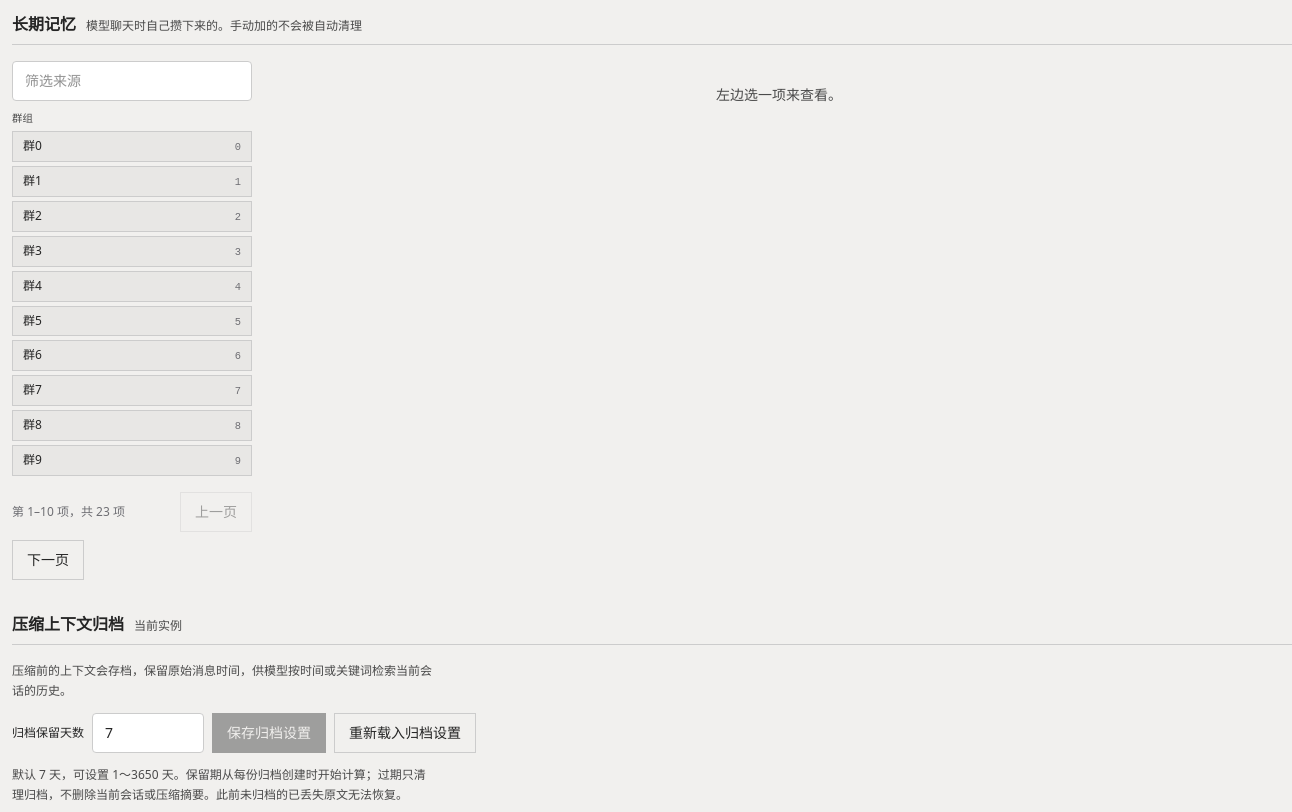
来源列表 › 筛不到就直说，不是留一栏空白
The image size is (1292, 812).
Check: the text "群0" is shown, box [23, 137, 42, 154]
Type "不存在的" into the field named "按名字筛选来源" at (132, 81), box [12, 61, 252, 101]
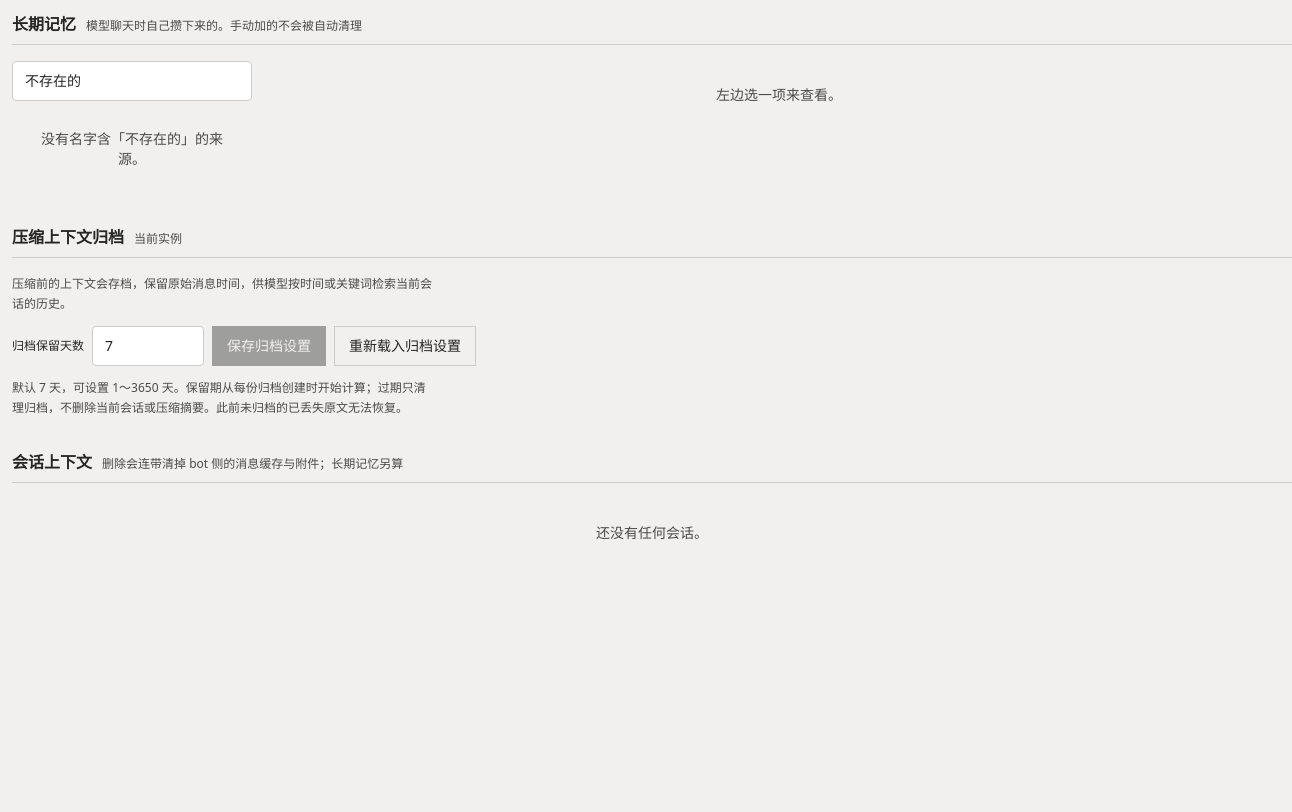
Check: the text "没有名字含「不存在的」的来源。" is shown, box [41, 129, 223, 168]
